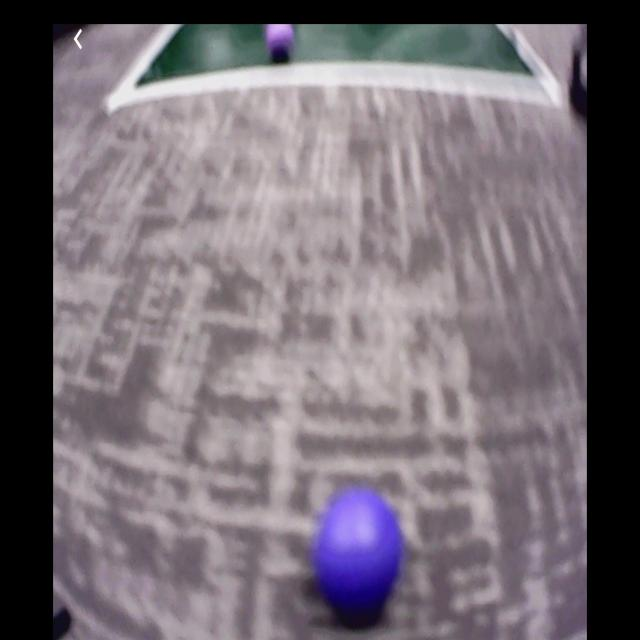ball: (318, 488, 403, 617), (266, 26, 295, 59)
